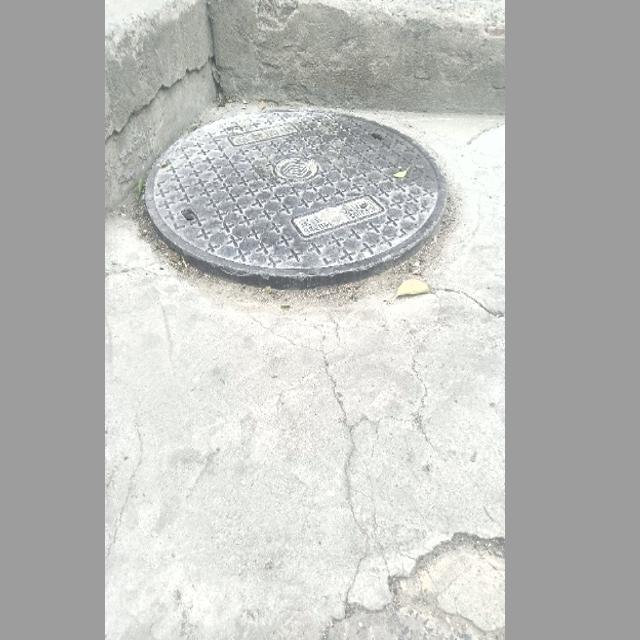good: (143, 109, 448, 290)
